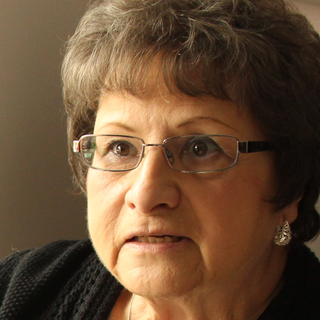eye: (180, 139, 222, 163), (104, 140, 147, 159)
